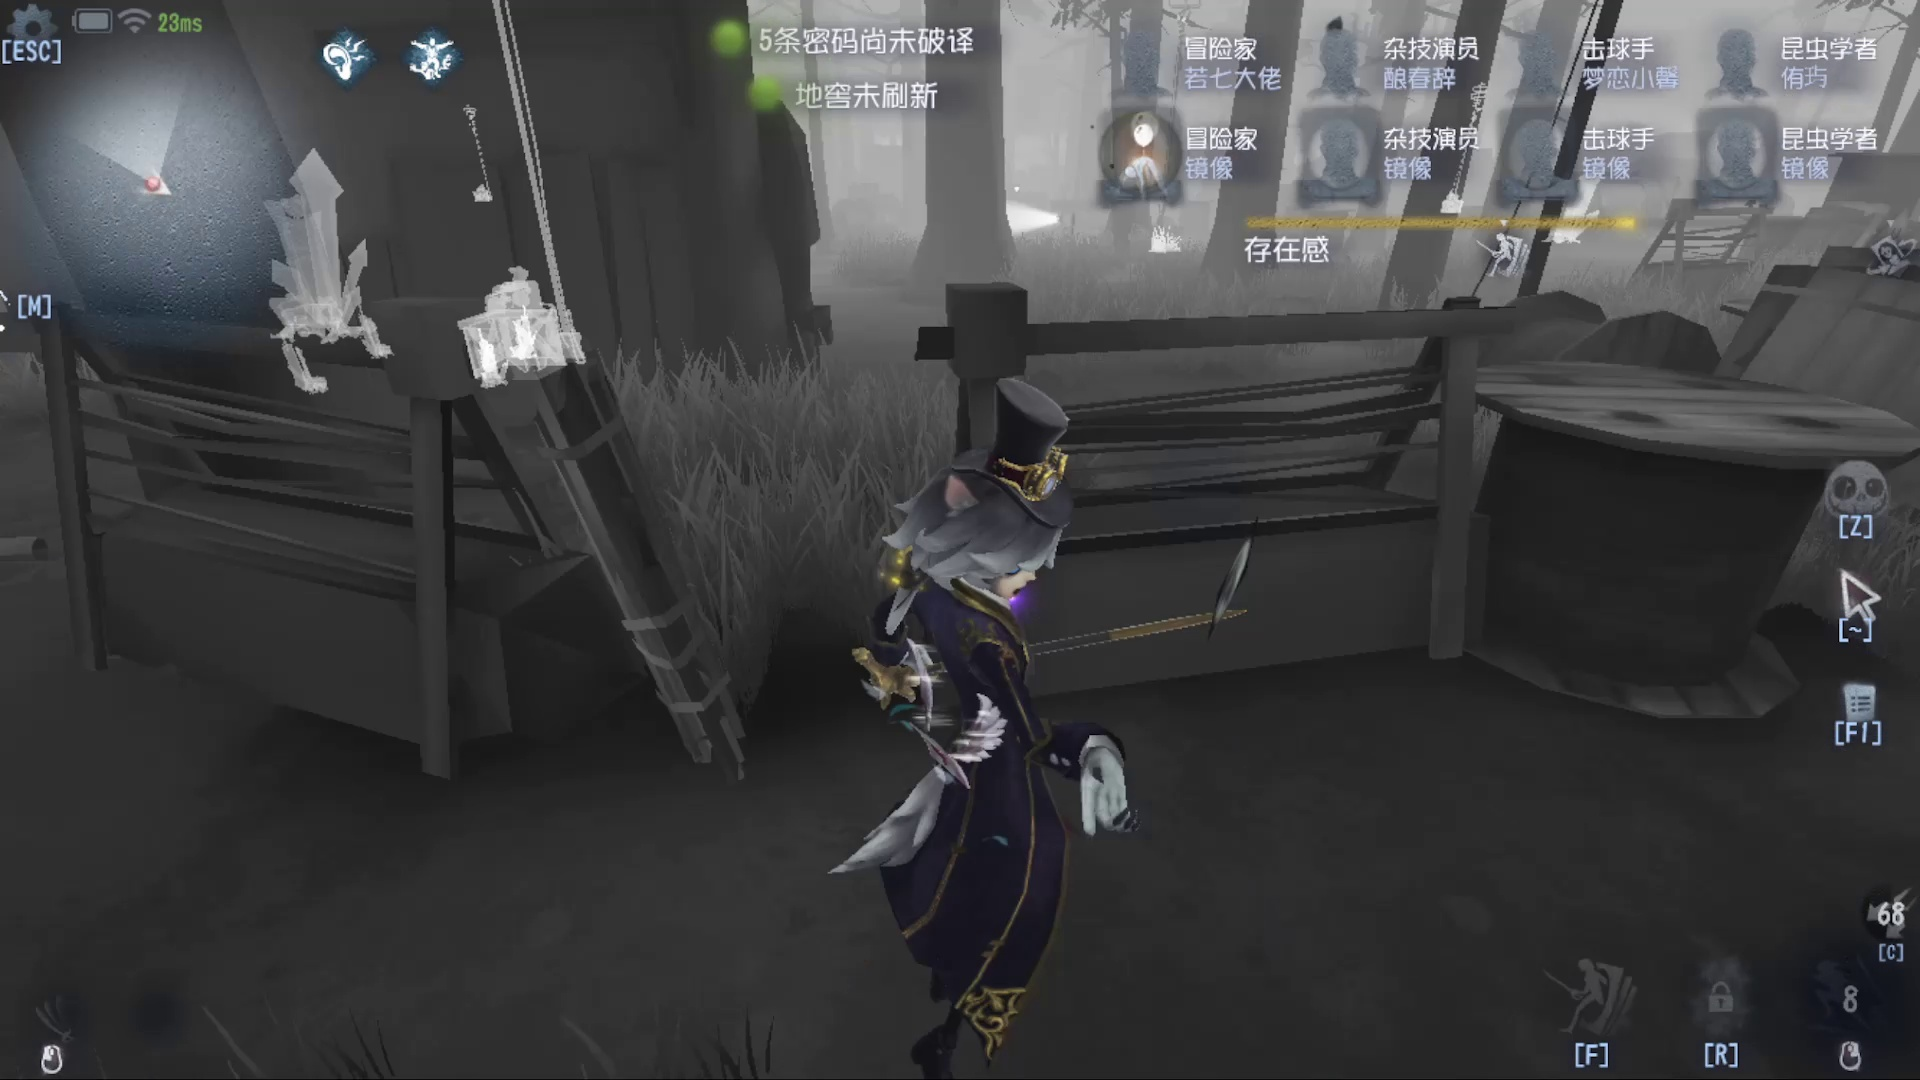密码机: (447, 25, 622, 382)
狂欢之椅: (244, 137, 396, 392)
